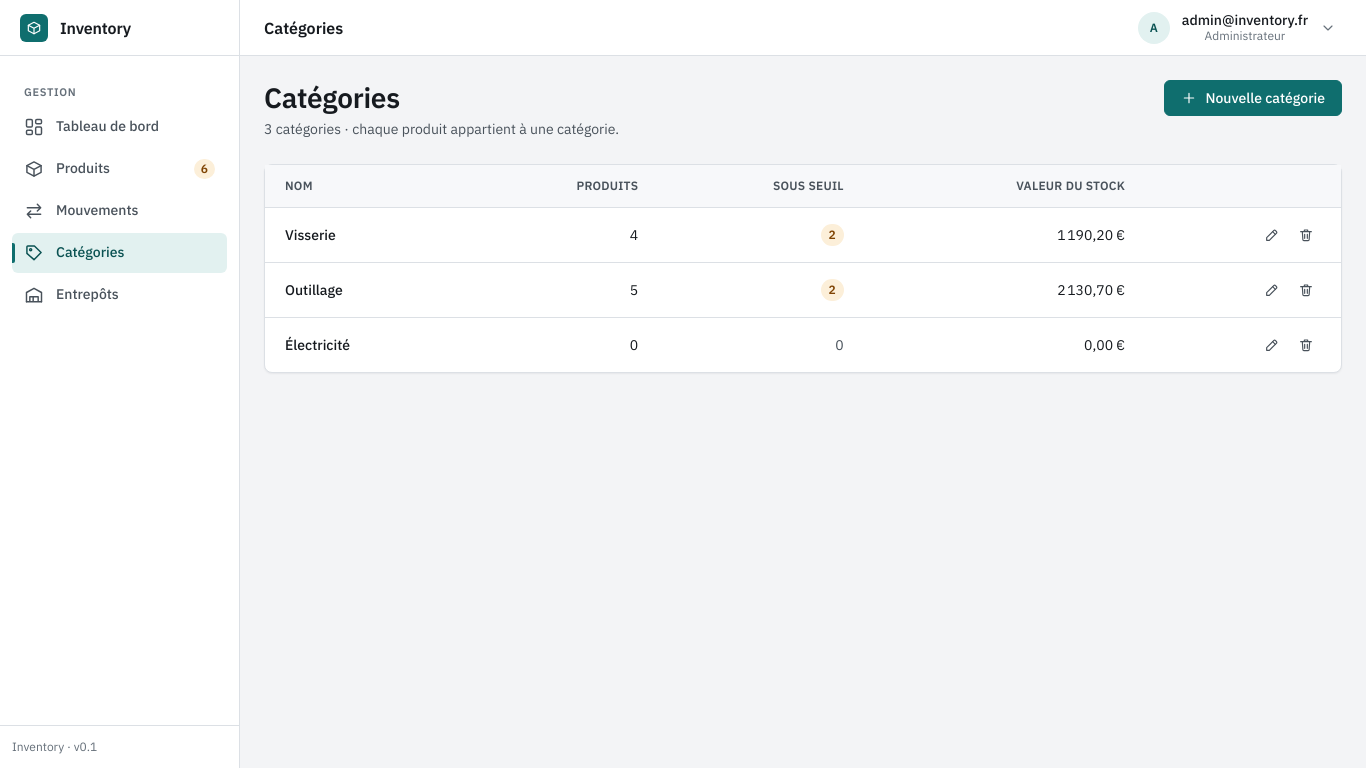
Scenario: CategoriesPage › table › links each category to the product list filtered on it
Expected: the heading "Catégories" is shown, [264,79,400,116]
Click the link "Outillage" at [314, 290], box [285,280,343,298]
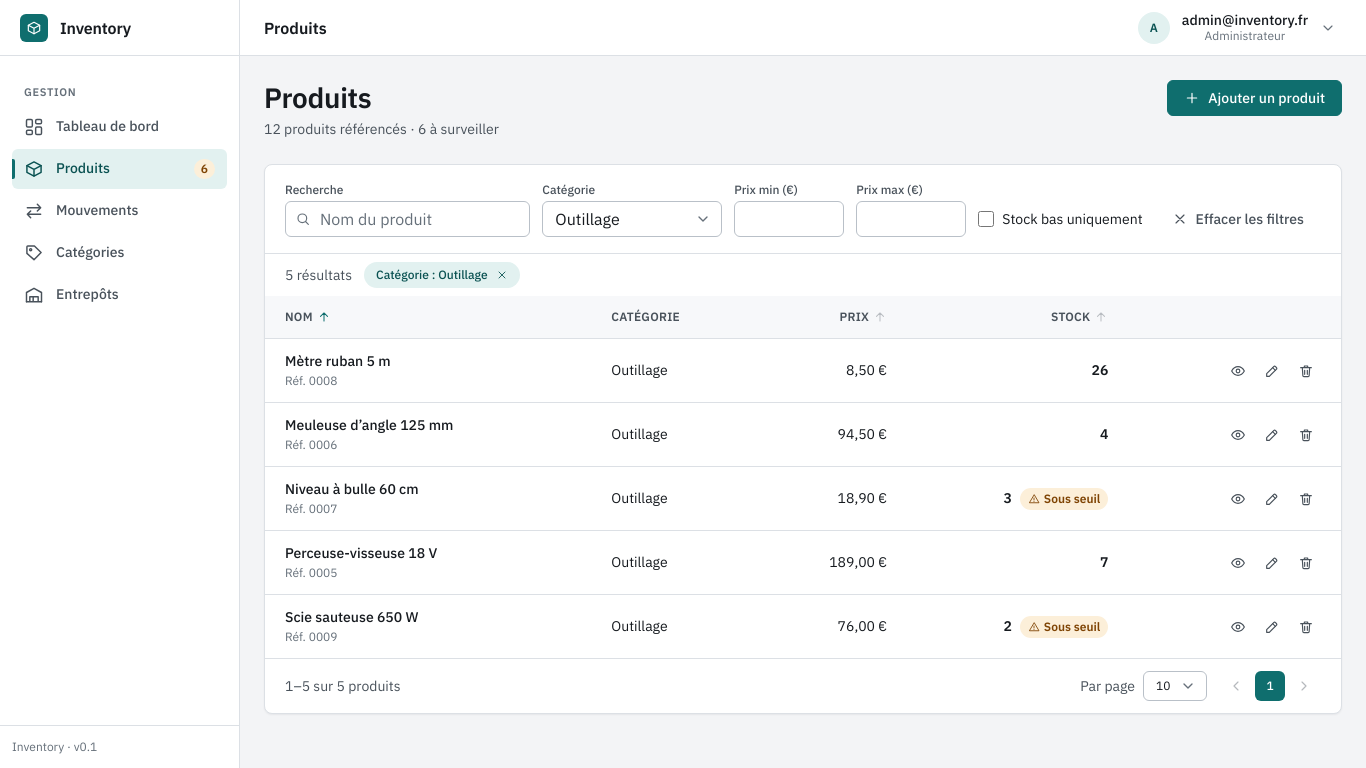
Now the heading "Produits" is shown, box [264,79,372,116]
Now the button named "Retirer le filtre Catégorie : Outillage" is shown, box [492,265,512,285]
